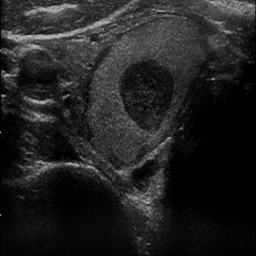mass: (87, 17, 208, 168)
